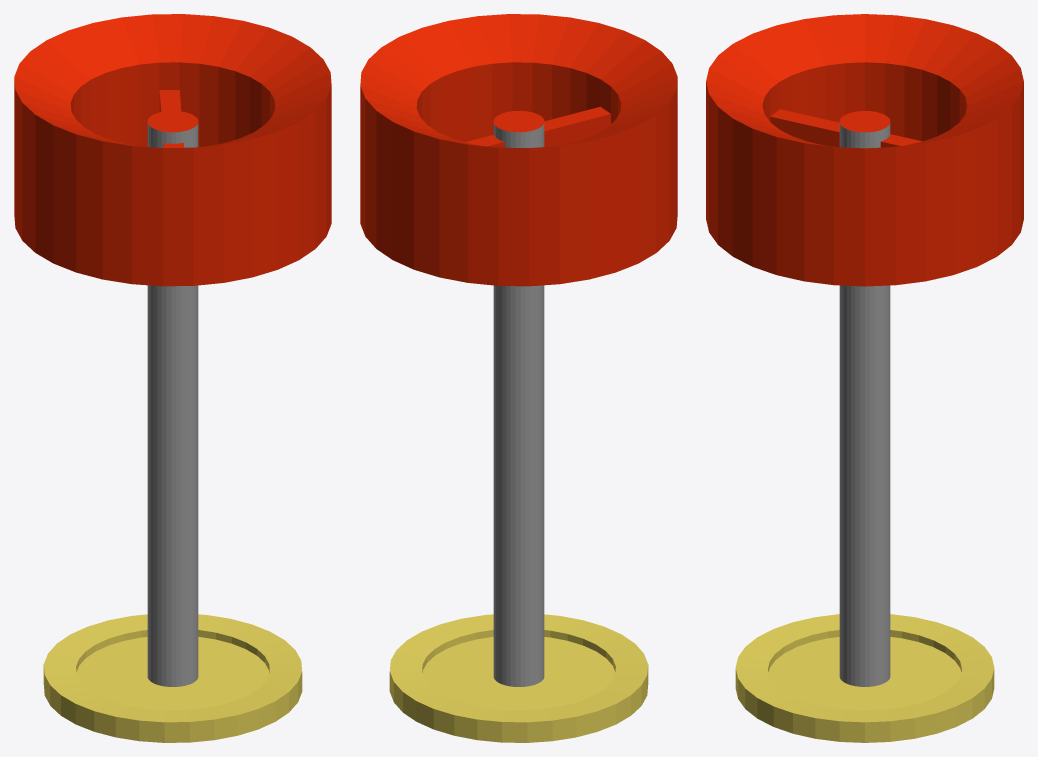
File: lamp.fbx
3 renders of one model, left to right at view 1: azimuth 30°, elevation 25°; view 2: azimuth 150°, elevation 25°; view 3: azimuth 270°, elevation 25°, orthographic.
Visible parts, largest first — view 1: lamp:Mesh; view 2: lamp:Mesh; view 3: lamp:Mesh.
Part boxes in pixels (x1,y1,x2,y2): lamp:Mesh: (14, 14, 331, 742); lamp:Mesh: (360, 14, 677, 742); lamp:Mesh: (706, 14, 1023, 742).
Bounding box in the file's own units: 6.23 × 13.14 × 6.23.
